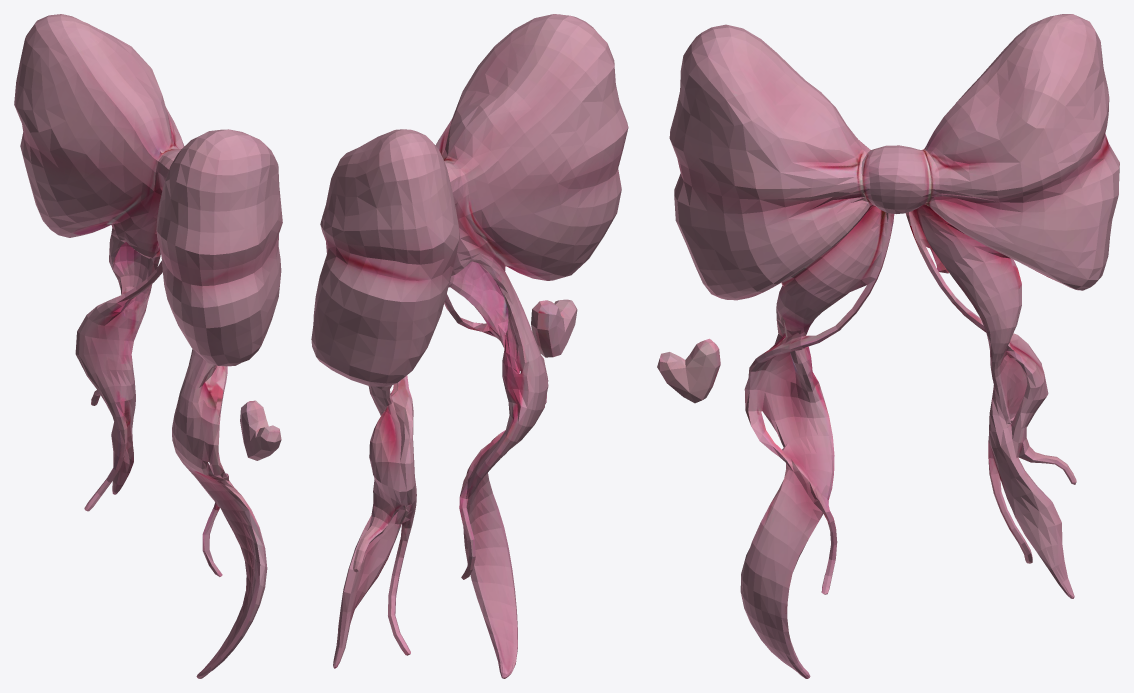
Rendered from bow.glb.
3 renders of one model, left to right at view 1: azimuth 30°, elevation 25°; view 2: azimuth 150°, elevation 25°; view 3: azimuth 270°, elevation 25°, orthographic. The views are drawn at different scales.
Parts seen in each view (by area): view 1: tripo_node_0ee84ea4-cbd7-49f7-a2eb-90a8f1d29b38; view 2: tripo_node_0ee84ea4-cbd7-49f7-a2eb-90a8f1d29b38; view 3: tripo_node_0ee84ea4-cbd7-49f7-a2eb-90a8f1d29b38.
Part boxes in pixels (left/top/right/bottom): tripo_node_0ee84ea4-cbd7-49f7-a2eb-90a8f1d29b38: left=14, top=14, right=282, bottom=678; tripo_node_0ee84ea4-cbd7-49f7-a2eb-90a8f1d29b38: left=311, top=14, right=628, bottom=678; tripo_node_0ee84ea4-cbd7-49f7-a2eb-90a8f1d29b38: left=657, top=14, right=1119, bottom=678.
Size of the model in its own units: 0.2325 by 0.9981 by 0.6454.
Materials: 1 (1 with a texture image).
